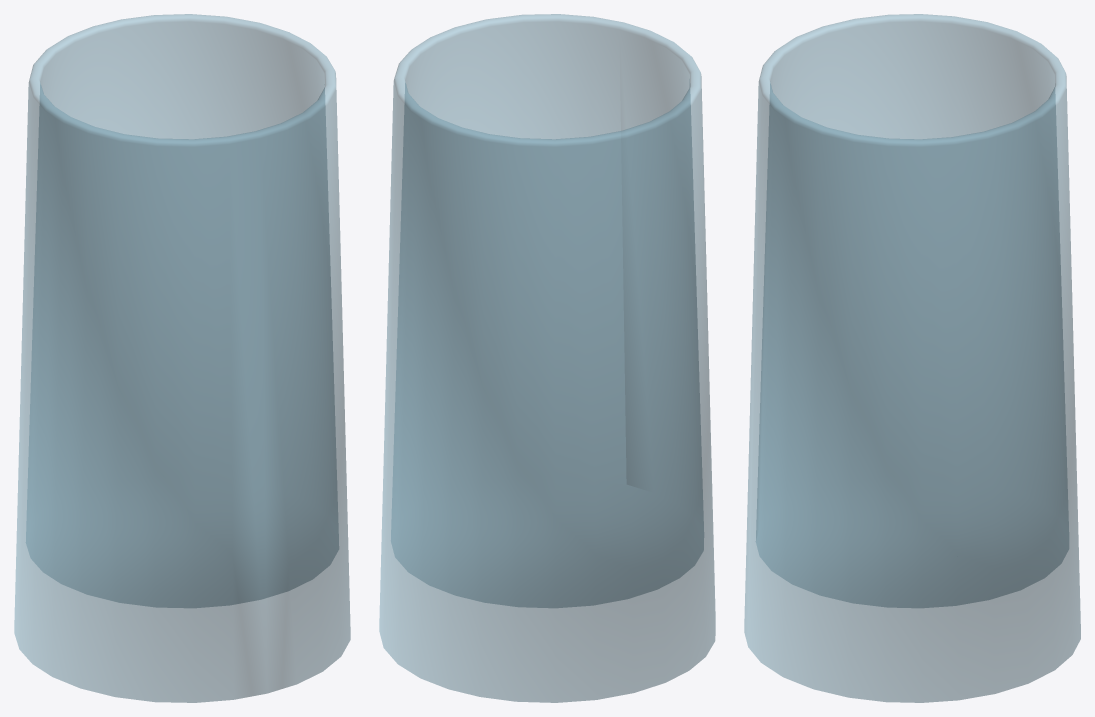
File: Cocktail Glassess.glb
3 renders of one model, left to right at view 1: azimuth 30°, elevation 25°; view 2: azimuth 150°, elevation 25°; view 3: azimuth 270°, elevation 25°, orthographic.
Visible parts, largest first — view 1: HighBall; view 2: HighBall; view 3: HighBall.
Boxes of the visible parts, x1,y1,x2,y2 form: HighBall: (14,14,350,702); HighBall: (379,14,715,702); HighBall: (744,14,1080,702).
Size of the model in its own units: 0.1448 by 0.2625 by 0.1446.
